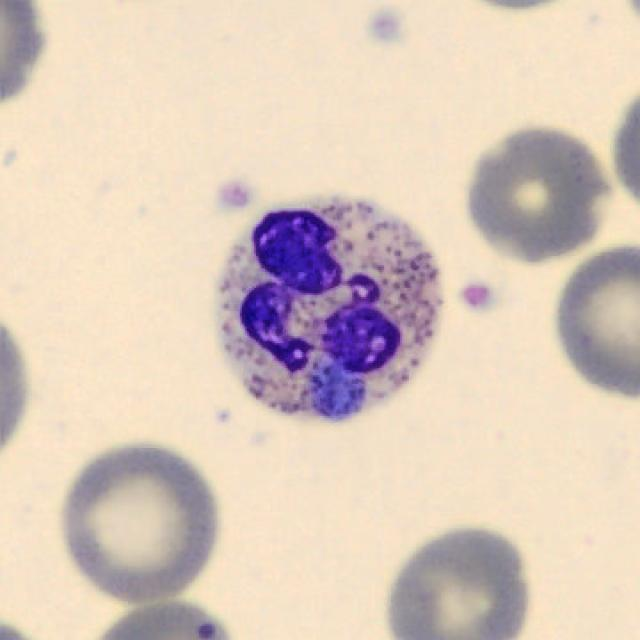Neutrofilo segmentado: (215, 196, 443, 425)
